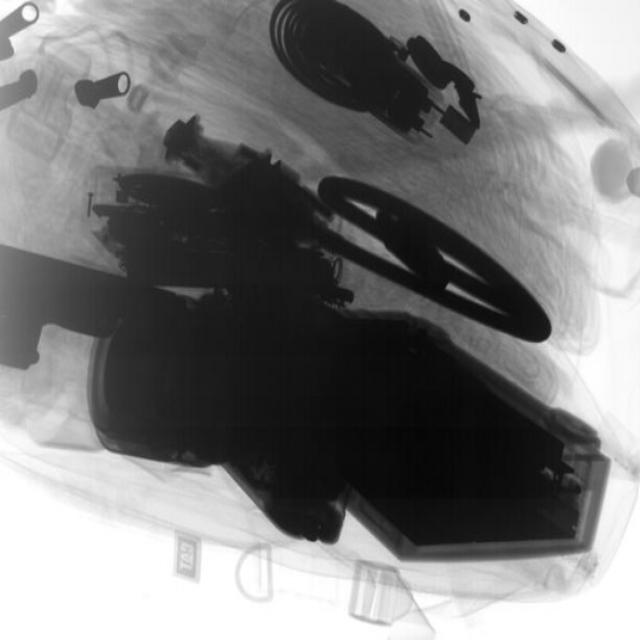GUN: (1, 204, 157, 382)
